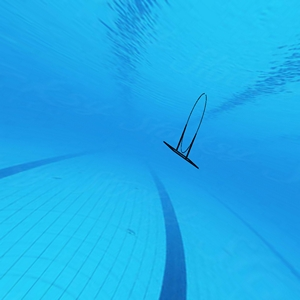circle: (161, 89, 214, 172)
